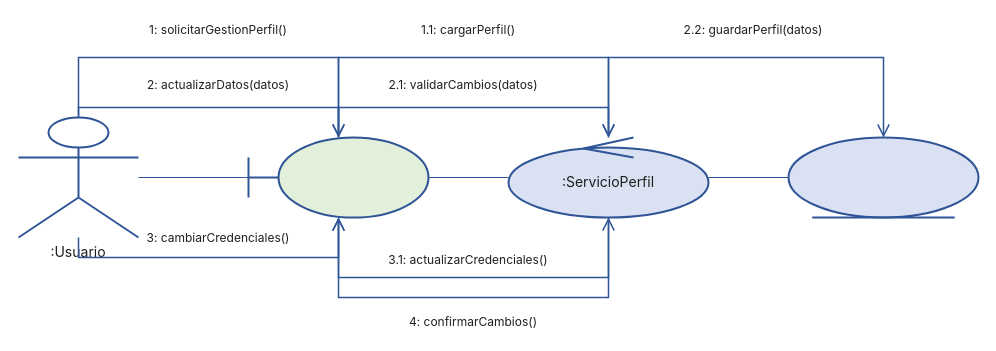
This 996x351 diagram has some shape labels left out. The centre of each missing label's shape, as x and y in pixels:
":PantallaPerfil" belongs at point 338,177.
":RepositorioUsuario" belongs at point 883,177.
